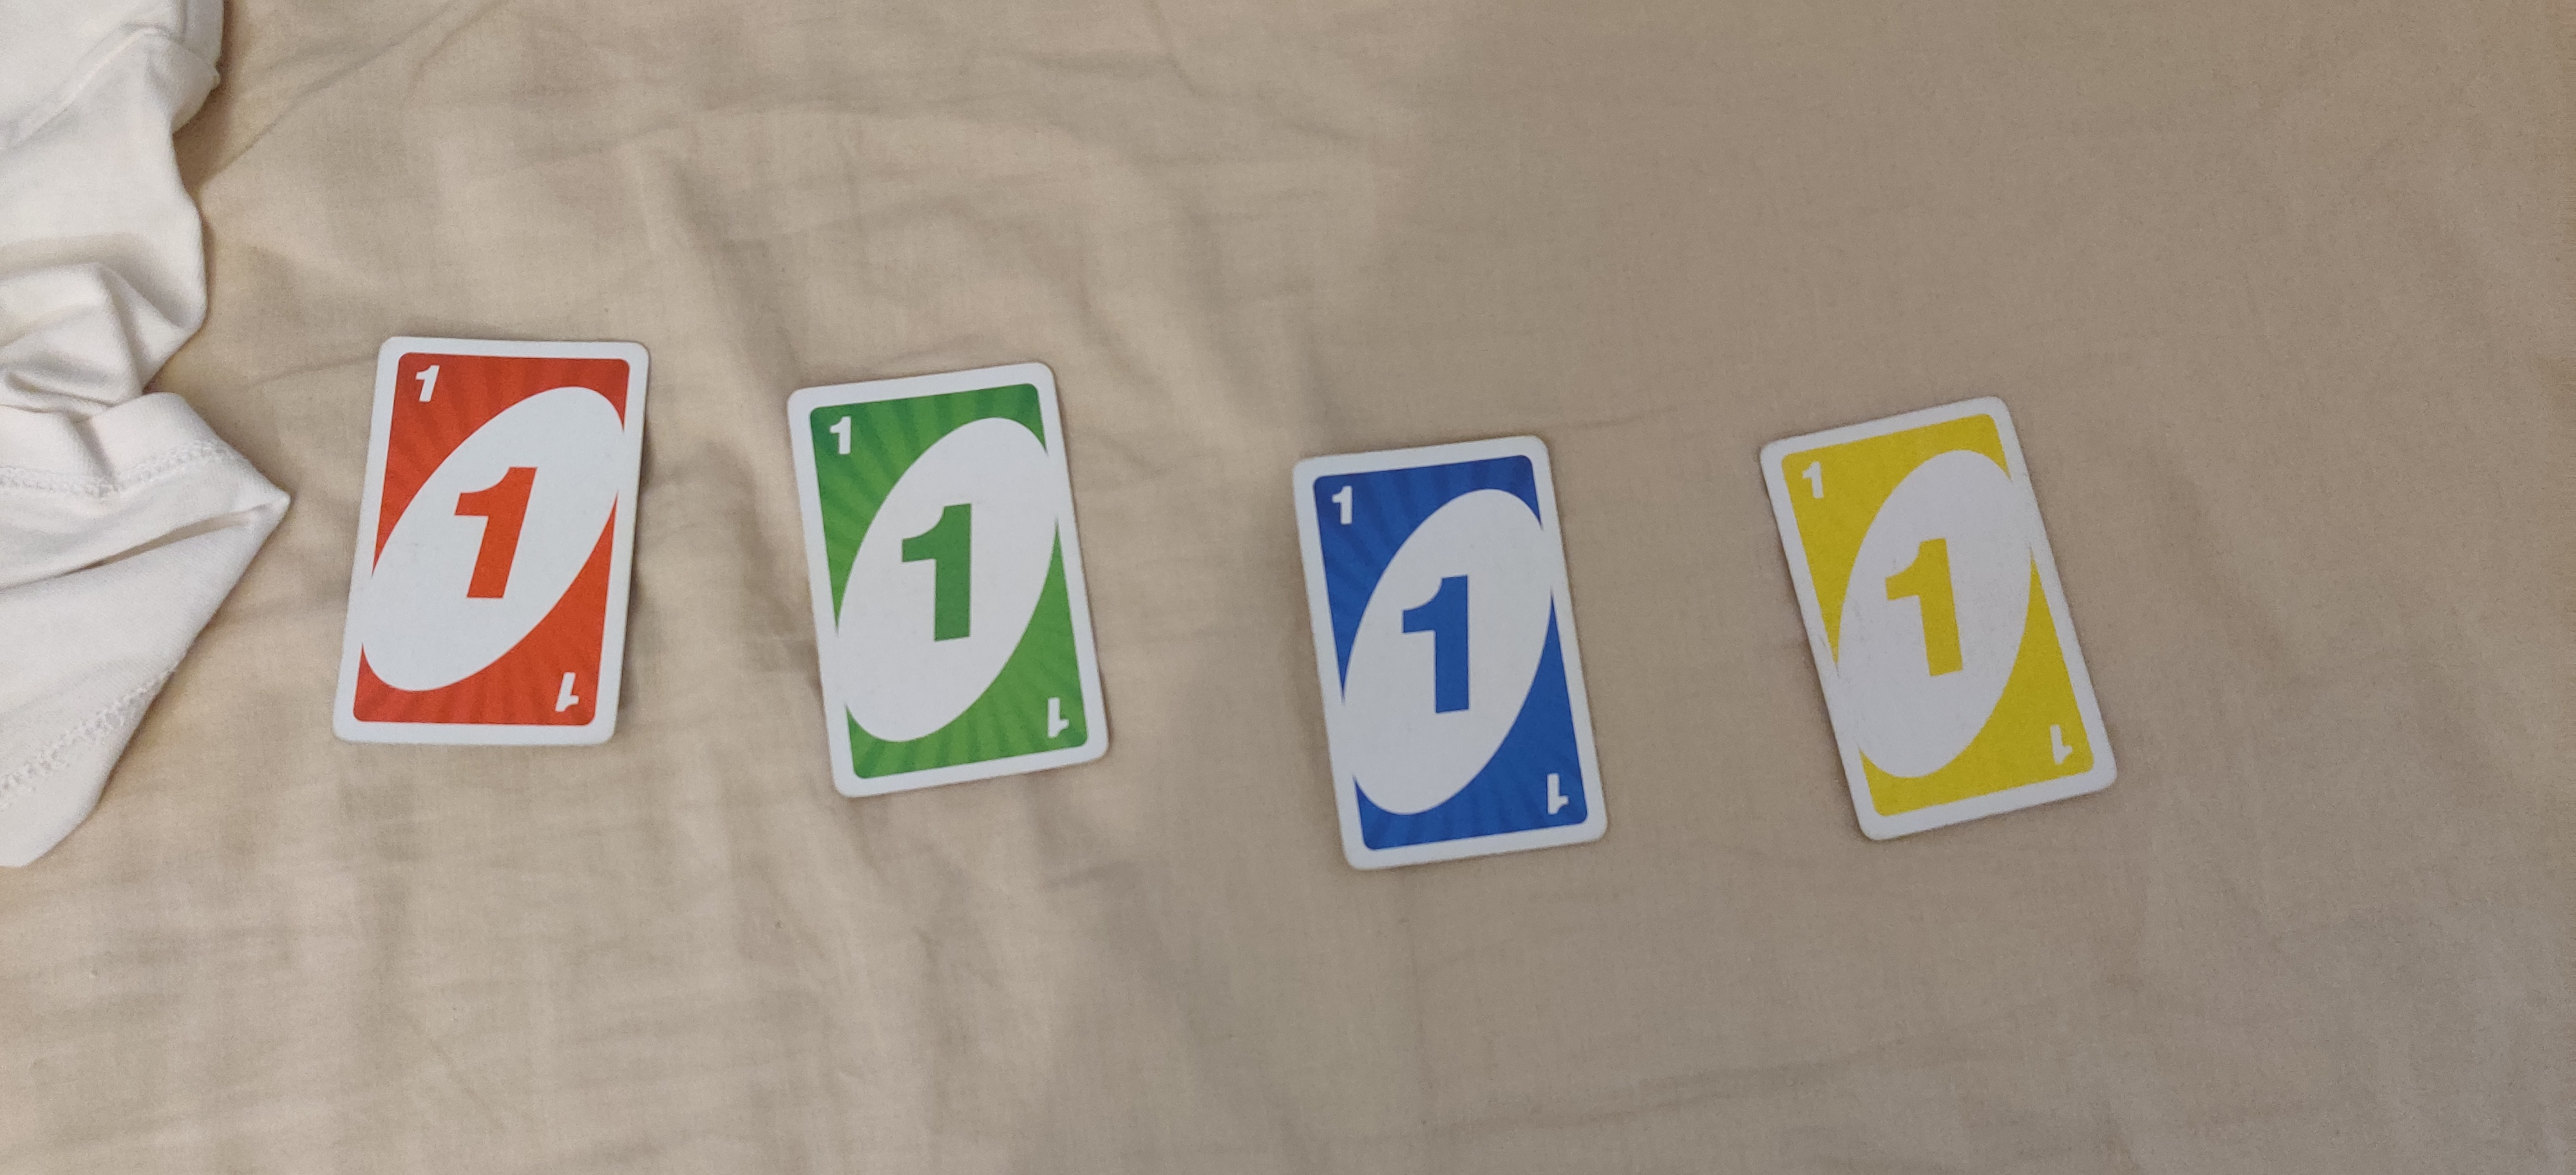un: (1755, 396, 2121, 845), (785, 362, 1115, 800), (1286, 439, 1612, 874), (334, 337, 651, 748)
